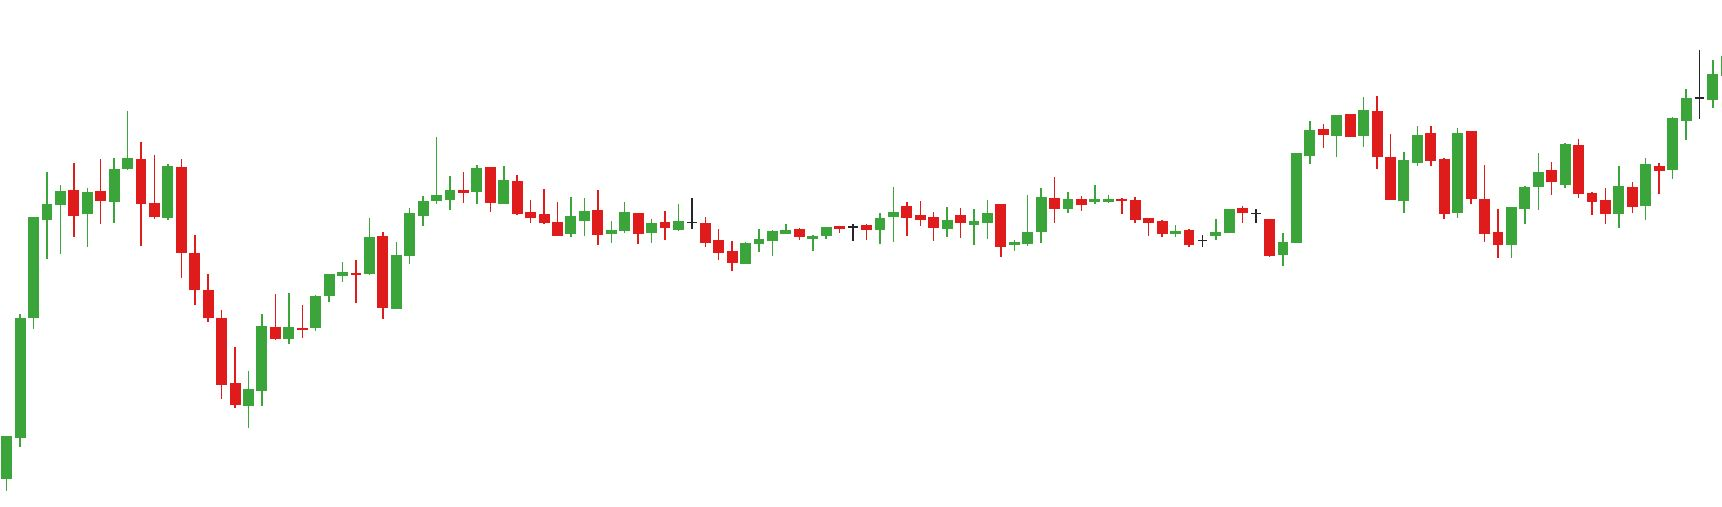buy: (1184, 215, 1290, 278)
